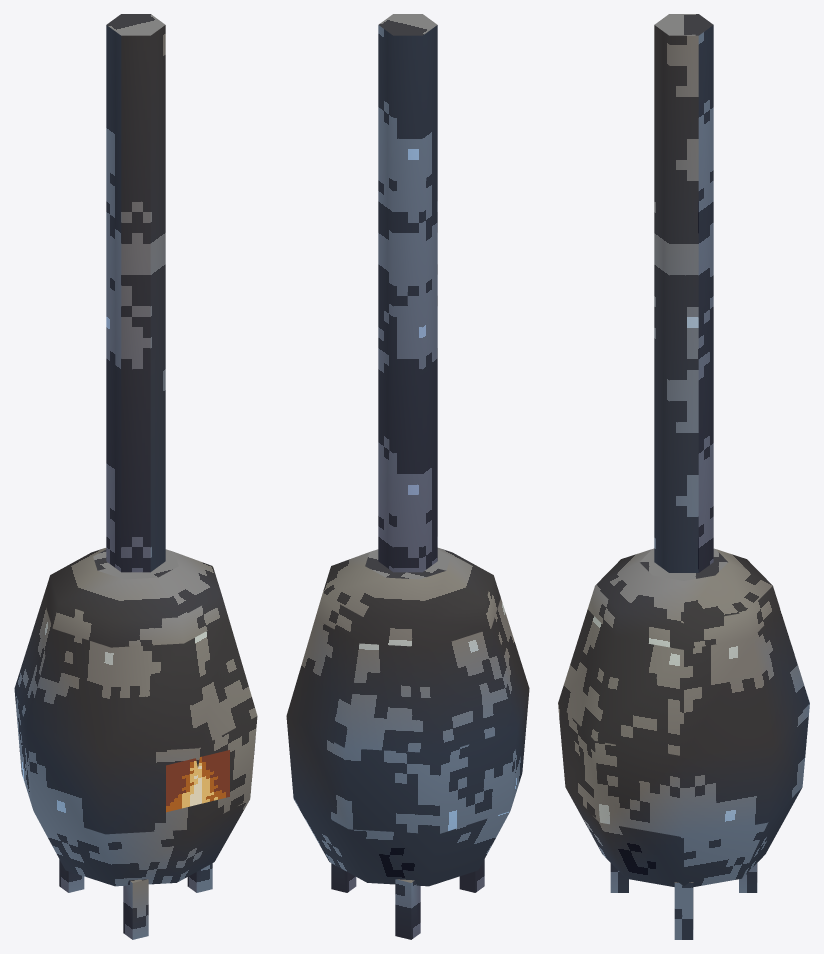
File: wprop.stove.glb
3 views of the same model, side by side, from view 1: azimuth 30°, elevation 25°; view 2: azimuth 150°, elevation 25°; view 3: azimuth 270°, elevation 25° (orthographic).
Visible parts, largest first — view 1: kit_body, kit_pipe, kit_card_grate, kit_legs; view 2: kit_body, kit_pipe, kit_legs; view 3: kit_body, kit_pipe, kit_legs.
Part boxes in pixels (x1,y1,x2,y2): kit_body: [14, 548, 257, 886]; kit_pipe: [106, 14, 165, 572]; kit_card_grate: [166, 750, 229, 812]; kit_legs: [59, 859, 212, 939]; kit_body: [286, 548, 529, 886]; kit_pipe: [378, 14, 437, 572]; kit_legs: [331, 859, 484, 939]; kit_body: [558, 548, 809, 886]; kit_pipe: [654, 14, 713, 572]; kit_legs: [610, 863, 757, 939].
Size of the model in its own units: 0.68 by 2.62 by 0.68.
2 materials, 2 textured.
